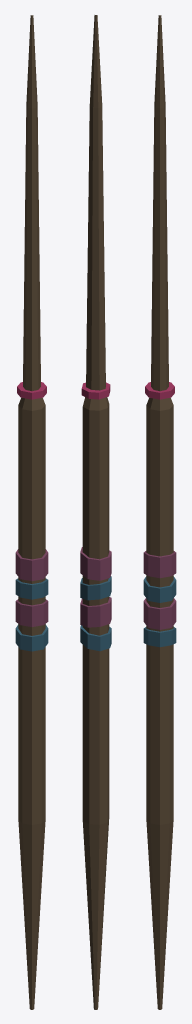
File: Javelin.glb
The picture shows the model from 3 angles, left to right: view 1: azimuth 90°, elevation 25°; view 2: azimuth 150°, elevation 25°; view 3: azimuth 270°, elevation 25°; orthographic projection.
Visible parts, largest first — view 1: Javelin; view 2: Javelin; view 3: Javelin.
Boxes of the visible parts, x1,y1,x2,y2 form: Javelin: [15, 15, 48, 1009]; Javelin: [80, 15, 111, 1009]; Javelin: [143, 15, 176, 1009].
Size of the model in its own units: 1471 by 49197 by 1471.
Materials: 1 (1 with a texture image).
